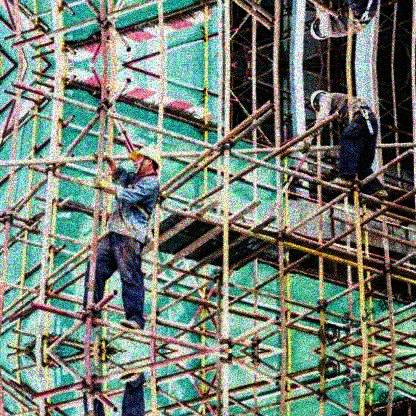helmet: (128, 143, 161, 179), (307, 89, 327, 111), (306, 18, 324, 40)
